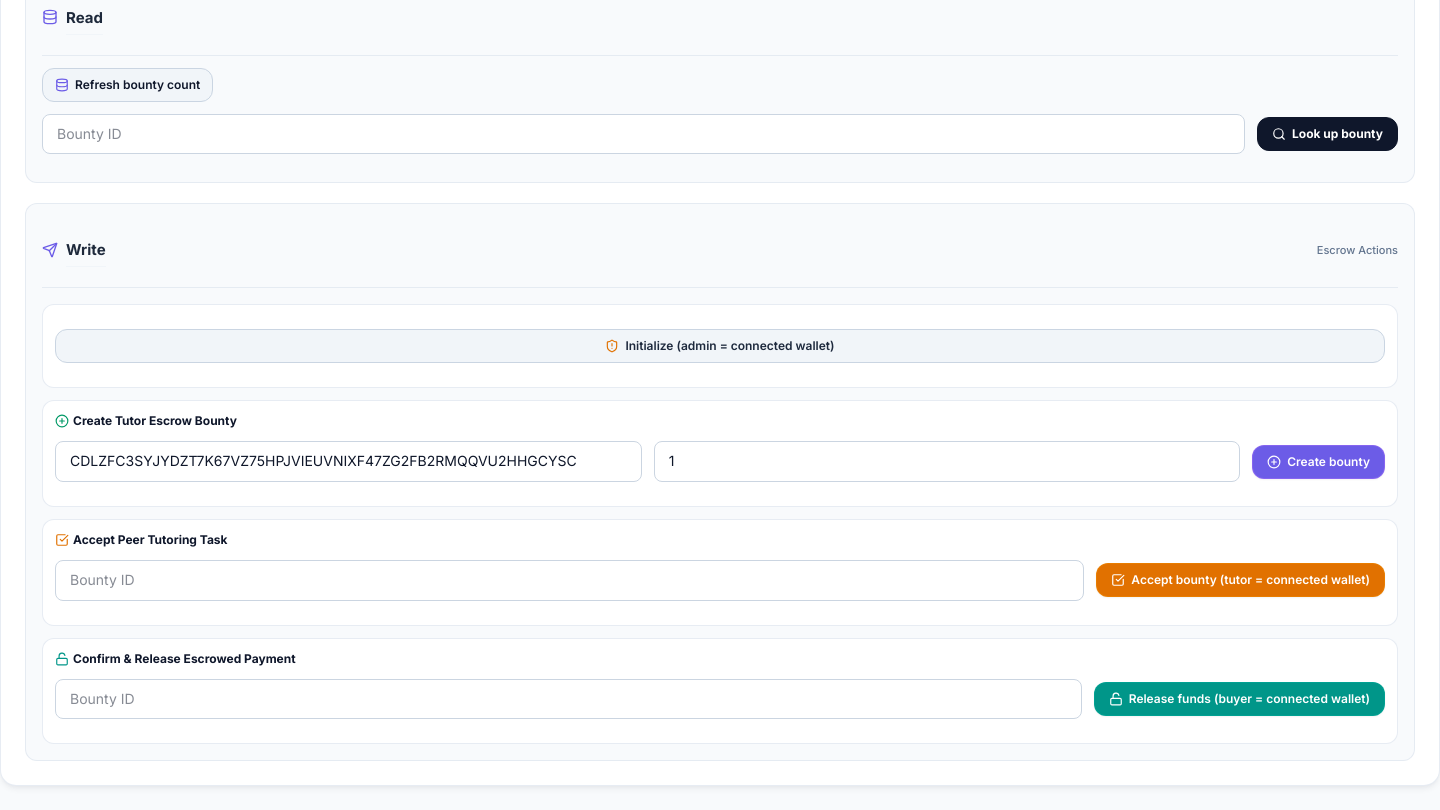
Scenario: ContractPanel › shows a Releasing... label while release_funds is in flight
This screenshot has width=1440, height=810.
(page scrolled)
Type "3" into the field with placeholder "Bounty ID" below "Confirm & Release Escrowed Payment".
click(568, 699); type("3")  # box 55,679 -> 1082,719
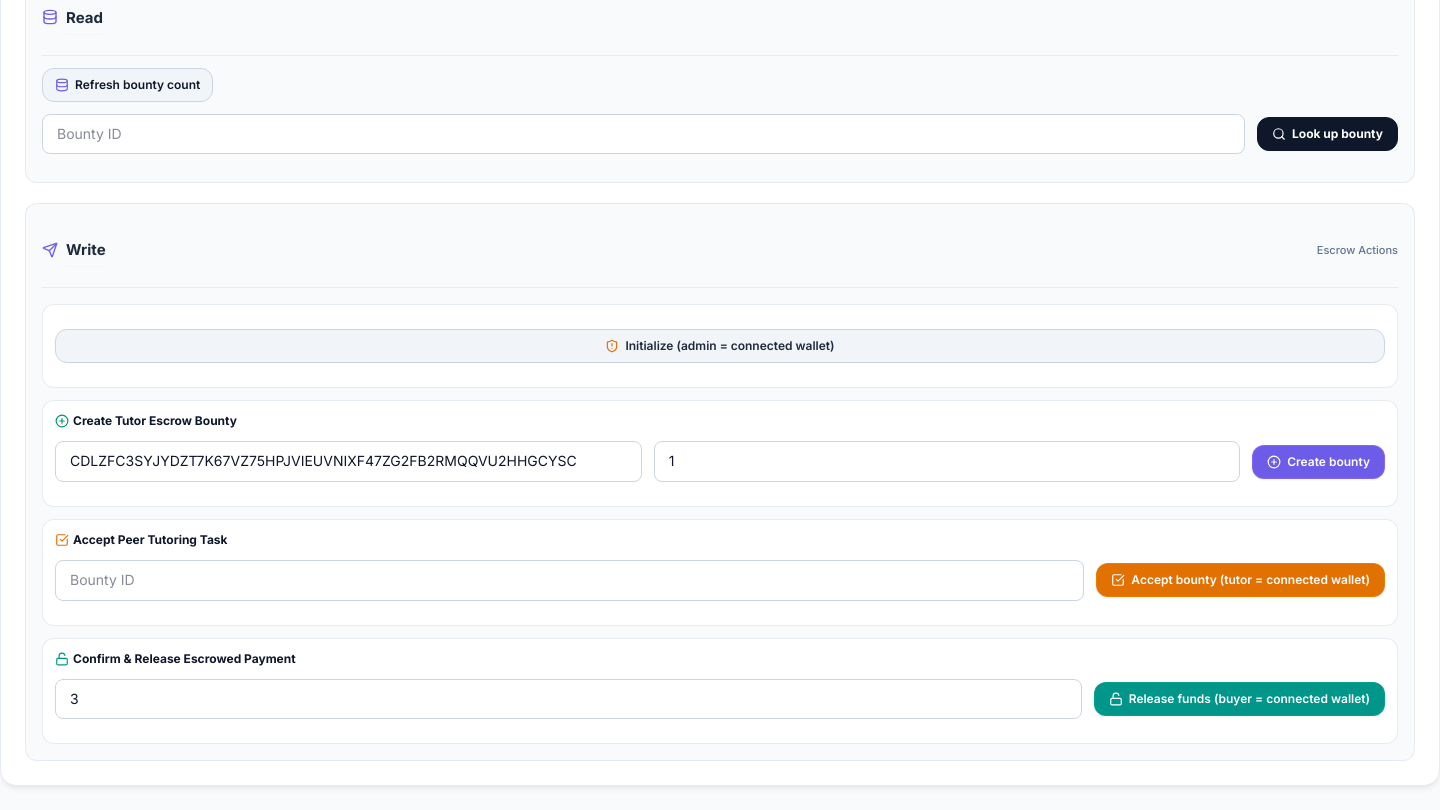
Click the button "Release funds (buyer = connected wallet)".
click(1239, 699)  # box 1094,682 -> 1385,716
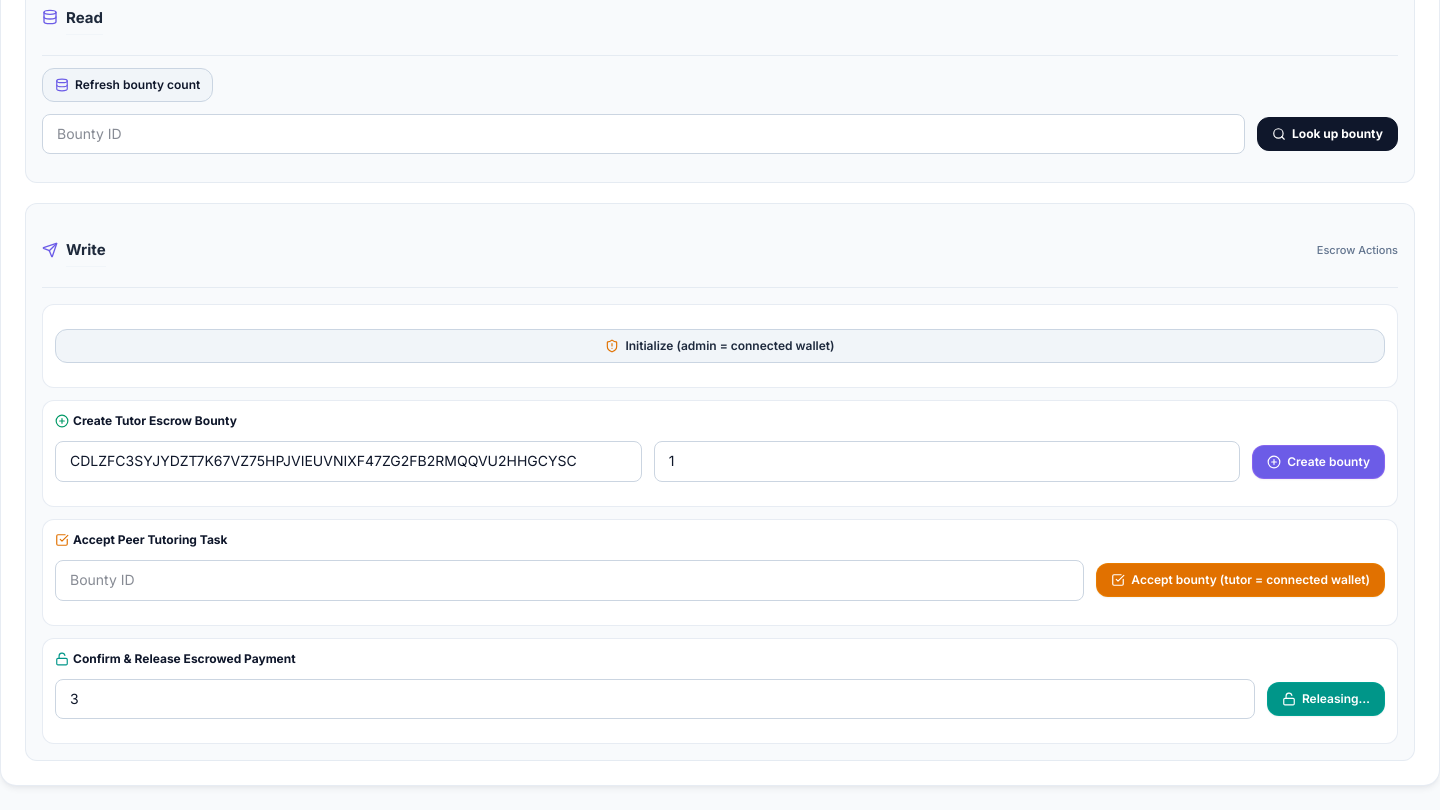
Expected: the button "Releasing…" is shown, 1267,682 -> 1385,716
